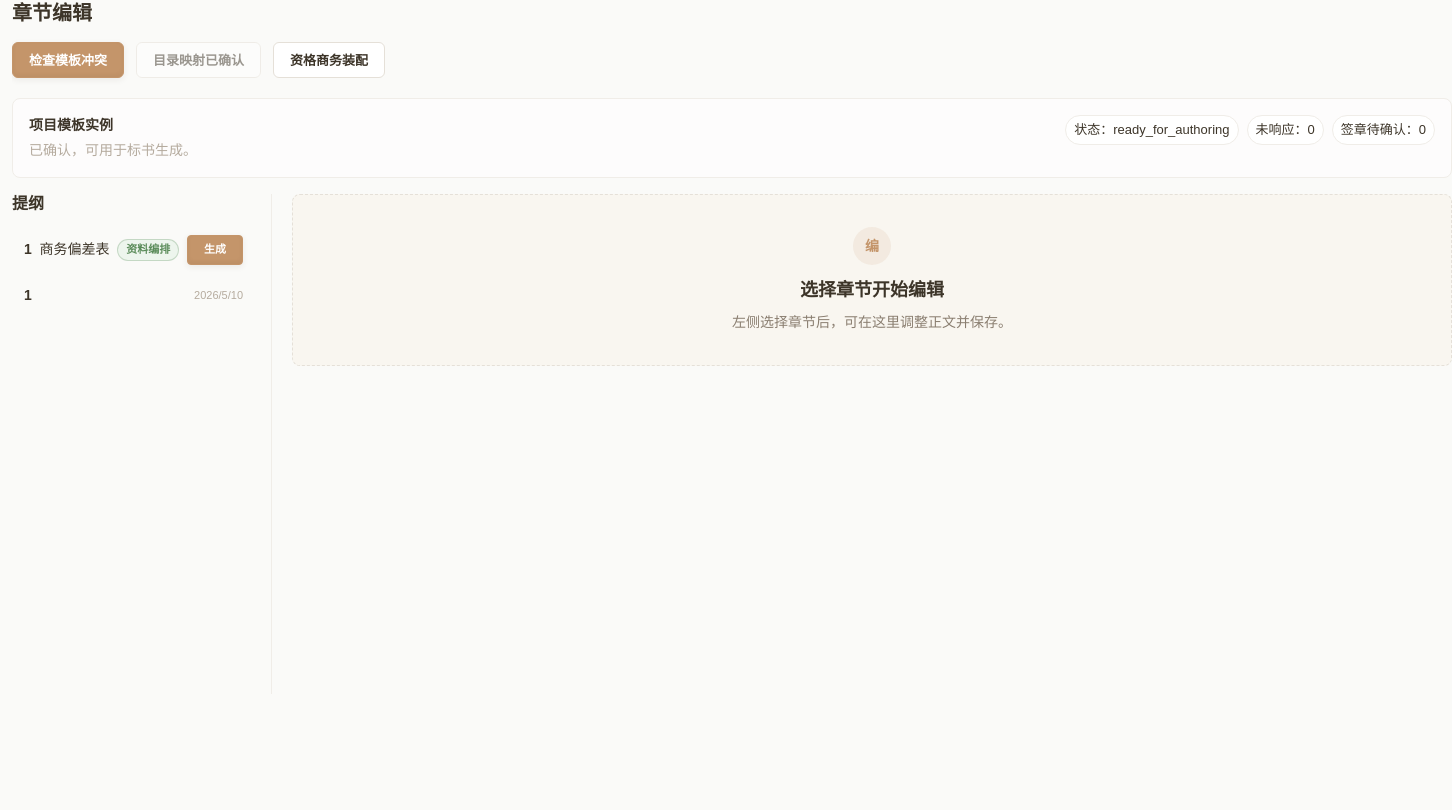
Test: EditorContent chart workflow › shows business template chapter preview pages for business chapters
This screenshot has width=1452, height=810.
Click the button "资格商务装配" at (329, 60), box [273,42,385,78]
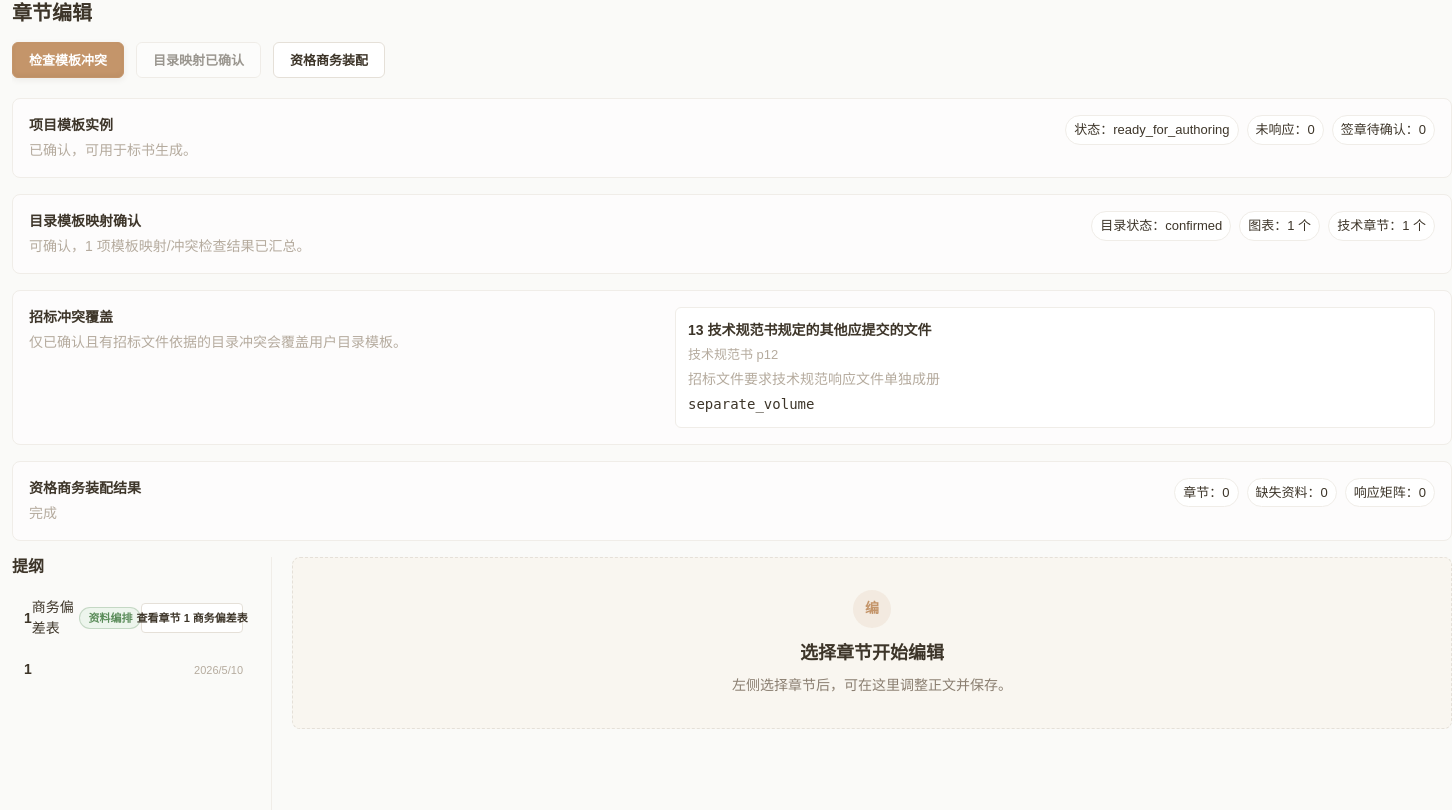
Expected: the button "查看章节 1 商务偏差表" is shown
Click the button "查看章节 1 商务偏差表" at (192, 618), box [141,603,243,633]
(page scrolled)
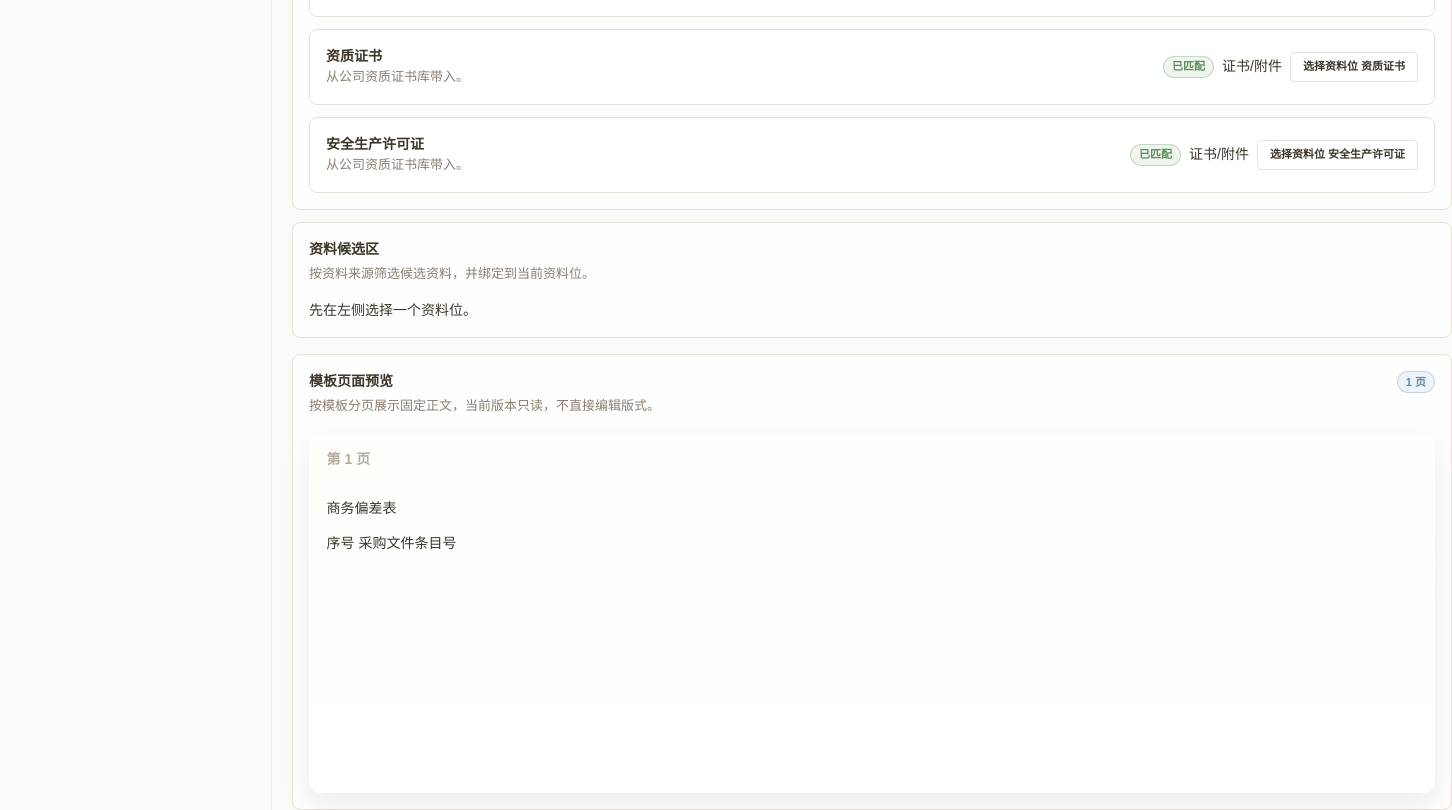
Expected: the text "模板页面预览" is shown, [309,374,393,390]
Expected: the text "第 1 页" is shown, [327,449,370,470]
Expected: the text "序号 采购文件条目号" is shown, [327,536,456,552]
